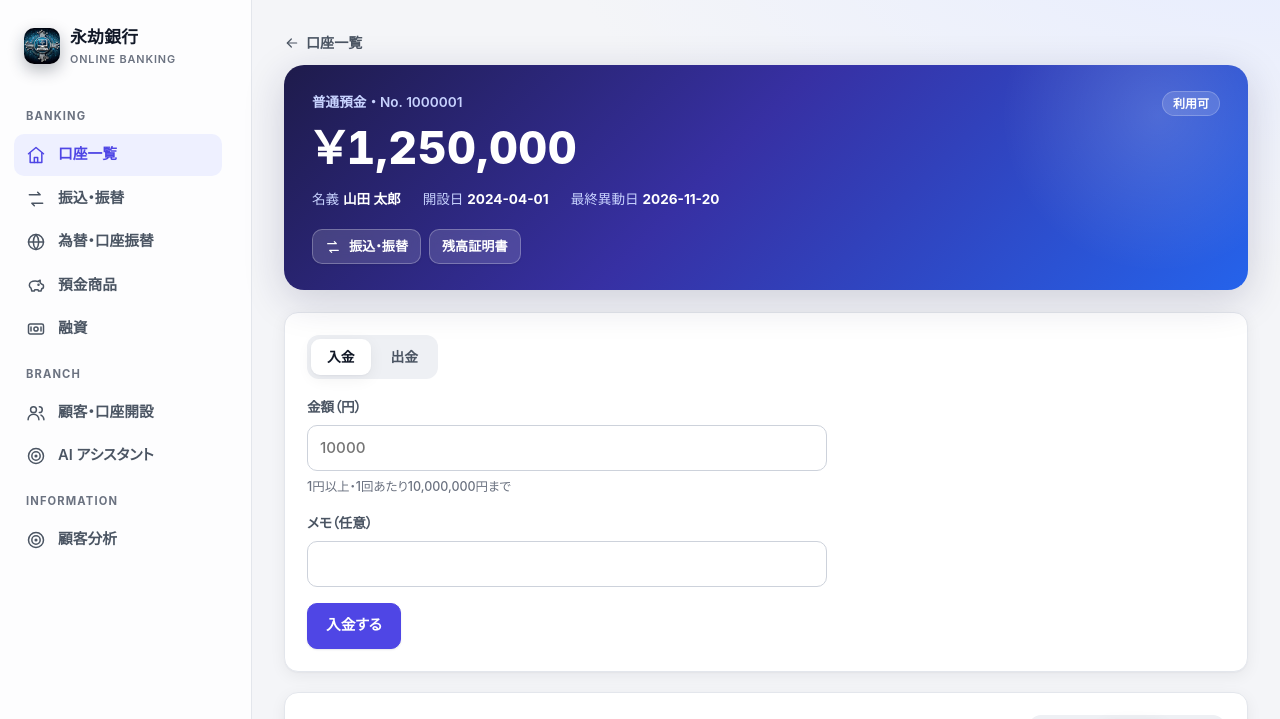
Test: AccountDetailPage › 行員：入金は金額を正規化して送り、結果を表示する
The width and height of the screenshot is (1280, 719).
Type "１０，０００" into the field labelled "金額（円） 1円以上・1回あたり10,000,000円まで" at (567, 448), box [307,425,827,471]
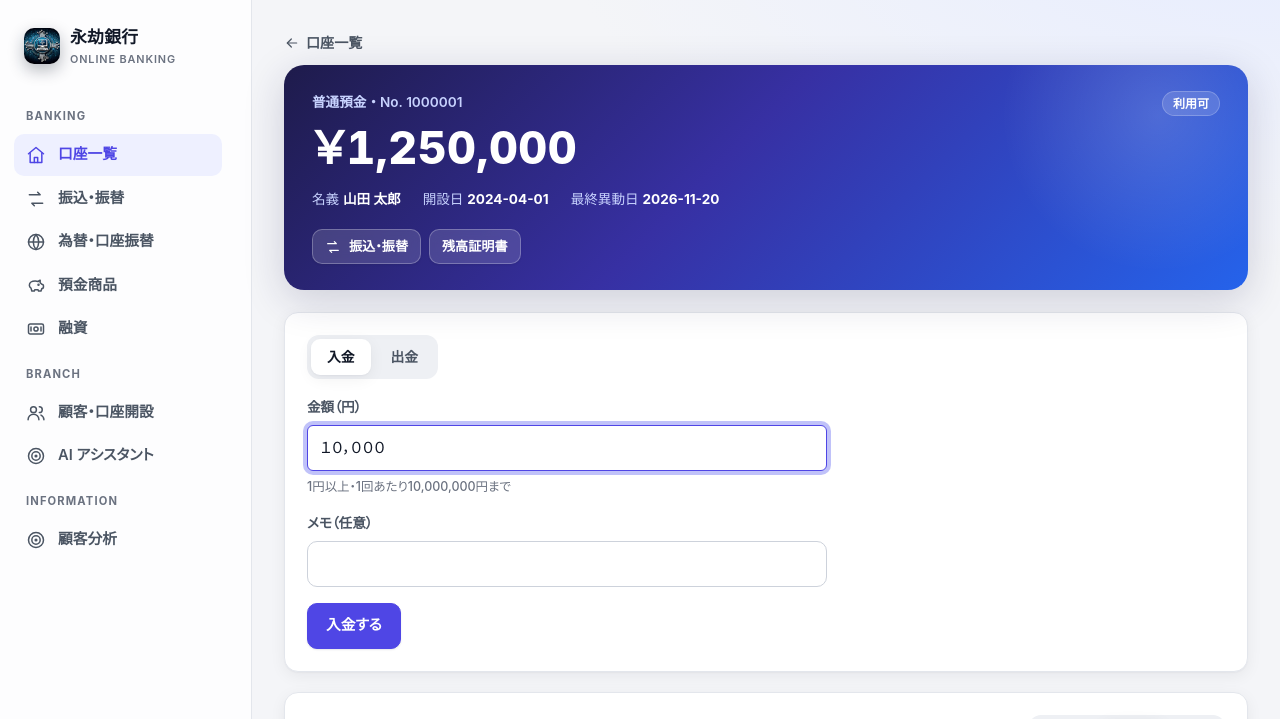
Type "窓口" into the field labelled "メモ（任意）" at (567, 564), box [307,541,827,587]
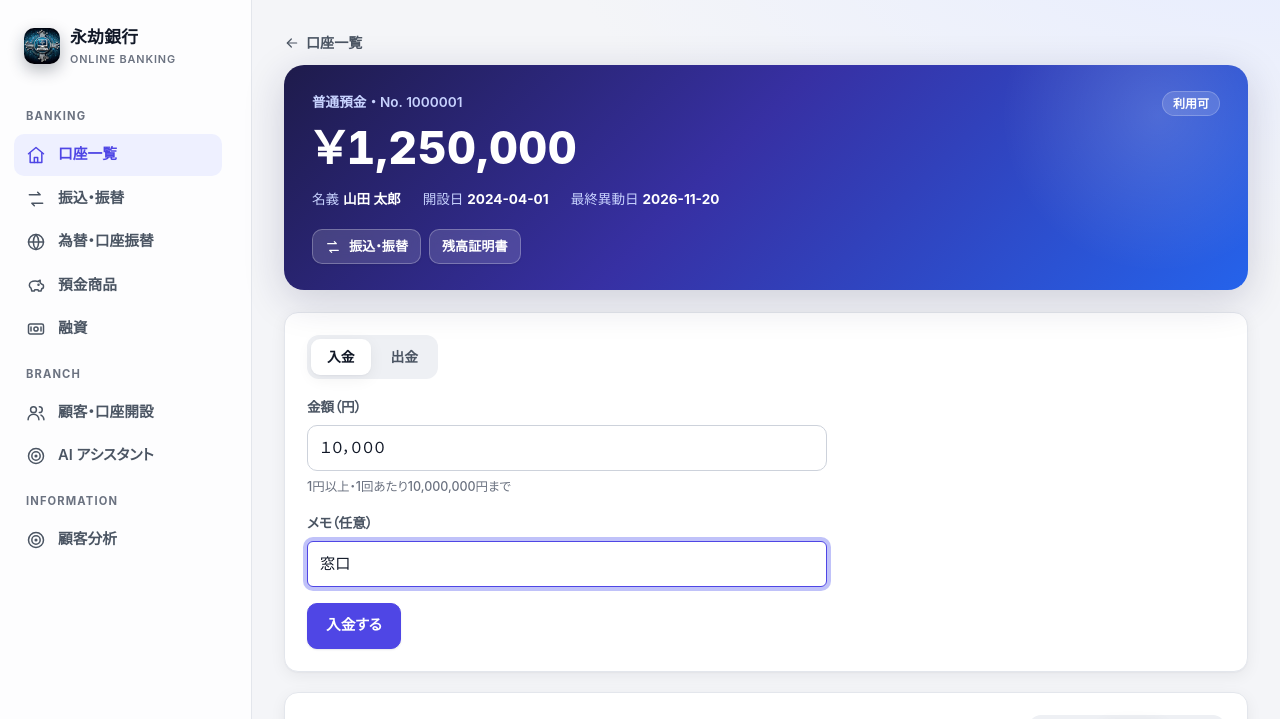
Click the button "入金する" at (354, 626), box [307,603,401,649]
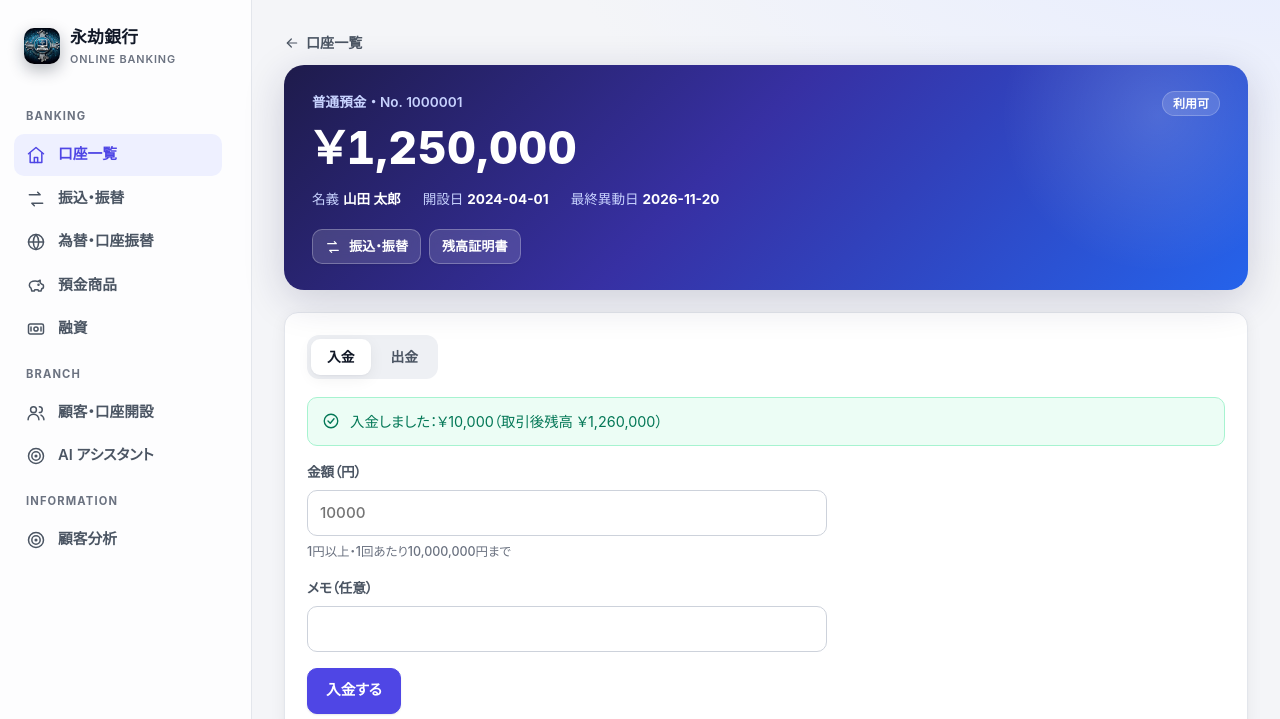
Expected: the text "入金しました：￥10,000（取引後残高 ￥1,260,000）" is shown, [350,410,663,433]
Expected: the field labelled "金額（円） 1円以上・1回あたり10,000,000円まで" is empty, [307,490,827,536]
